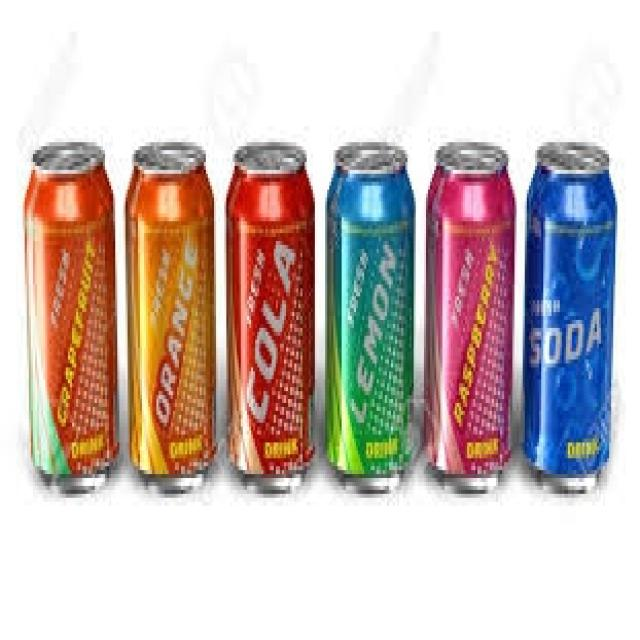kim_loai: (525, 142, 617, 488), (426, 142, 517, 488), (226, 142, 315, 488), (25, 146, 117, 480), (327, 146, 416, 490), (126, 142, 216, 480)
